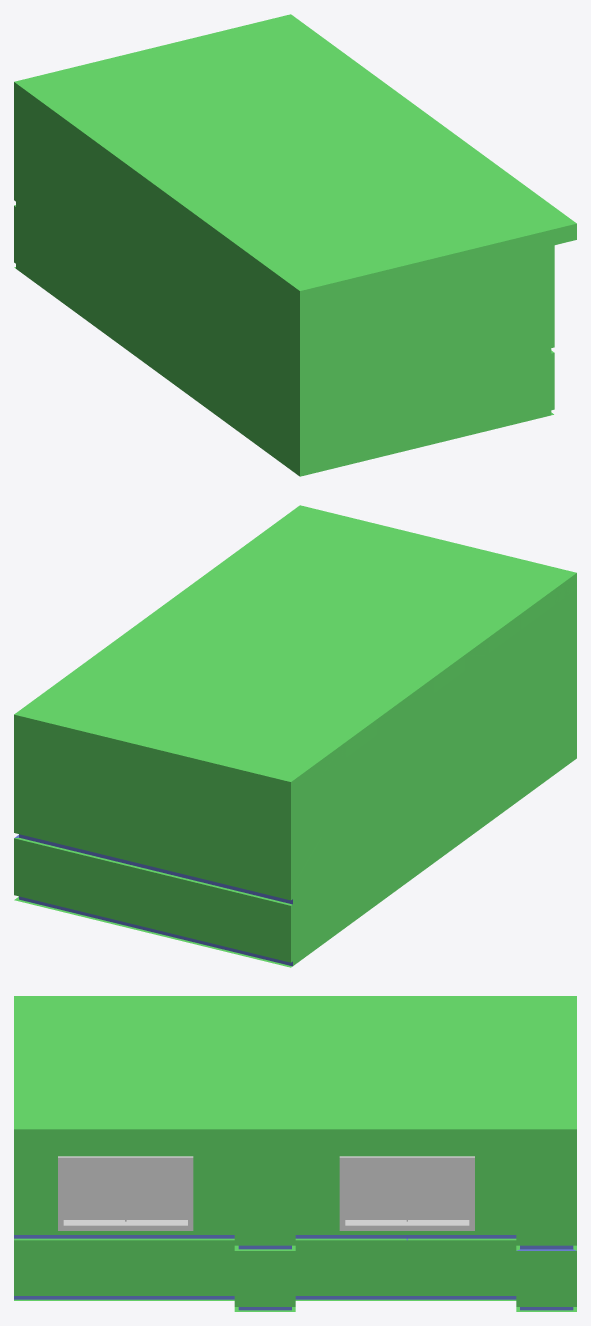
The model's file is building_right.fbx.
3 views of the same model, one above another, from view 1: azimuth 30°, elevation 25°; view 2: azimuth 150°, elevation 25°; view 3: azimuth 270°, elevation 25° (orthographic).
Visible parts, largest first — view 1: room novo.001; view 2: room novo.001; view 3: room novo.001.
Boxes of the visible parts, box(x1,y1,x2,y2) form: room novo.001: box(14, 14, 576, 476); room novo.001: box(14, 505, 576, 967); room novo.001: box(14, 996, 576, 1311).
Size of the model in its own units: 124 by 79.31 by 222.
